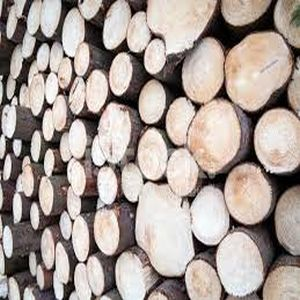log: (133, 178, 198, 279), (223, 27, 291, 109), (185, 99, 244, 174), (145, 1, 225, 53), (142, 1, 223, 51), (251, 102, 300, 176), (213, 228, 265, 297), (223, 162, 274, 225), (180, 37, 226, 100), (190, 184, 234, 248), (96, 102, 135, 167), (271, 182, 300, 255), (135, 126, 170, 181), (113, 250, 150, 300), (165, 150, 200, 200), (100, 1, 134, 51), (183, 257, 220, 300), (133, 78, 169, 122), (90, 206, 122, 255), (107, 51, 137, 103), (260, 261, 300, 298), (165, 96, 195, 145), (59, 9, 85, 59), (125, 10, 152, 55), (91, 165, 120, 206), (141, 36, 168, 80), (34, 174, 61, 218), (84, 68, 109, 114), (69, 212, 92, 262), (118, 160, 145, 202), (52, 240, 76, 285), (35, 222, 57, 271), (66, 117, 90, 161), (67, 72, 89, 119), (84, 254, 107, 297), (40, 1, 64, 38), (62, 183, 85, 221), (71, 42, 94, 79), (28, 72, 47, 114), (69, 161, 89, 200), (87, 134, 108, 171), (4, 5, 22, 45), (9, 189, 29, 224), (25, 2, 45, 37), (27, 126, 45, 163), (73, 261, 90, 300), (20, 163, 38, 199), (53, 93, 69, 132), (1, 222, 15, 265), (8, 42, 25, 77), (56, 130, 74, 162), (39, 108, 56, 141), (48, 39, 64, 73), (4, 104, 19, 140), (57, 57, 72, 93), (76, 1, 103, 20), (44, 72, 60, 104), (35, 43, 52, 73), (26, 201, 42, 230), (42, 147, 58, 176), (4, 72, 20, 101), (22, 30, 37, 60), (32, 263, 46, 293), (23, 252, 37, 280), (6, 277, 21, 300), (1, 155, 14, 180), (10, 139, 25, 158)
